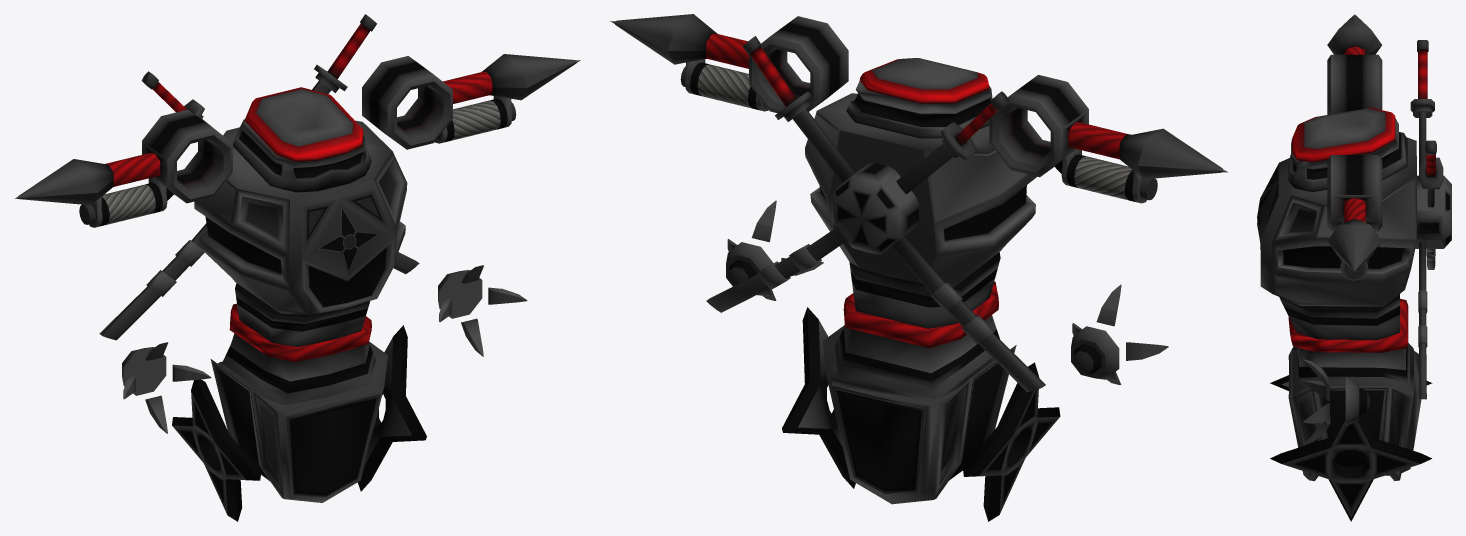
File: GRAPPLER.fbx
3 views of the same model, side by side, from view 1: azimuth 30°, elevation 25°; view 2: azimuth 150°, elevation 25°; view 3: azimuth 270°, elevation 25° (orthographic). The views are drawn at different scales.
Visible parts, largest first — view 1: Body, Body Lower, Body Mid, Head, Left Shoulder Spikes, Right Shoulder Spikes, Back Swords, Right Hip Plate, Left Hip Plate, Right Shoulder, Left Shoulder, Right Hand (+1 smaller); view 2: Body, Back Swords, Body Lower, Body Mid, Right Shoulder Spikes, Left Shoulder Spikes, Head, Right Hip Plate, Left Hip Plate, Right Shoulder, Left Shoulder, Right Hand (+1 smaller); view 3: Body, Body Mid, Head, Body Lower, Back Swords, Left Hip Plate, Left Shoulder Spikes, Right Shoulder Spikes, Left Hand, Left Shoulder, l2, l4 (+2 smaller).
Part boxes in pixels (x1,y1,x2,y2): Body: (194,120,407,315); Body Lower: (210,341,387,502); Body Mid: (222,283,375,404); Head: (233,87,371,192); Left Shoulder Spikes: (362,54,580,149); Right Shoulder Spikes: (15,109,232,205); Back Swords: (99,14,419,340); Right Hip Plate: (172,379,261,521); Left Hip Plate: (357,325,426,491); Right Shoulder: (79,177,173,227); Left Shoulder: (435,96,516,143); Right Hand: (122,347,166,395); Body: (805,93,1036,287); Back Swords: (706,36,1045,392); Body Lower: (822,325,1016,504); Body Mid: (835,252,1000,399); Right Shoulder Spikes: (989,75,1227,179); Left Shoulder Spikes: (609,14,848,112); Head: (846,58,992,138); Right Hip Plate: (963,362,1060,521); Left Hip Plate: (782,307,855,488); Right Shoulder: (1054,149,1157,203); Left Shoulder: (680,59,768,111); Right Hand: (1071,326,1119,379); Body: (1257,137,1416,306); Body Mid: (1279,294,1409,392); Head: (1288,107,1407,191); Body Lower: (1288,342,1421,481); Back Swords: (1410,40,1451,399); Left Hip Plate: (1270,406,1431,521); Left Shoulder Spikes: (1327,155,1382,271); Right Shoulder Spikes: (1327,14,1382,114); Left Hand: (1345,377,1369,426); Left Shoulder: (1340,221,1368,280); l2: (1303,403,1329,423); l4: (1303,380,1329,401).
Bounding box in the file's own units: 180 × 131 × 57.27.
